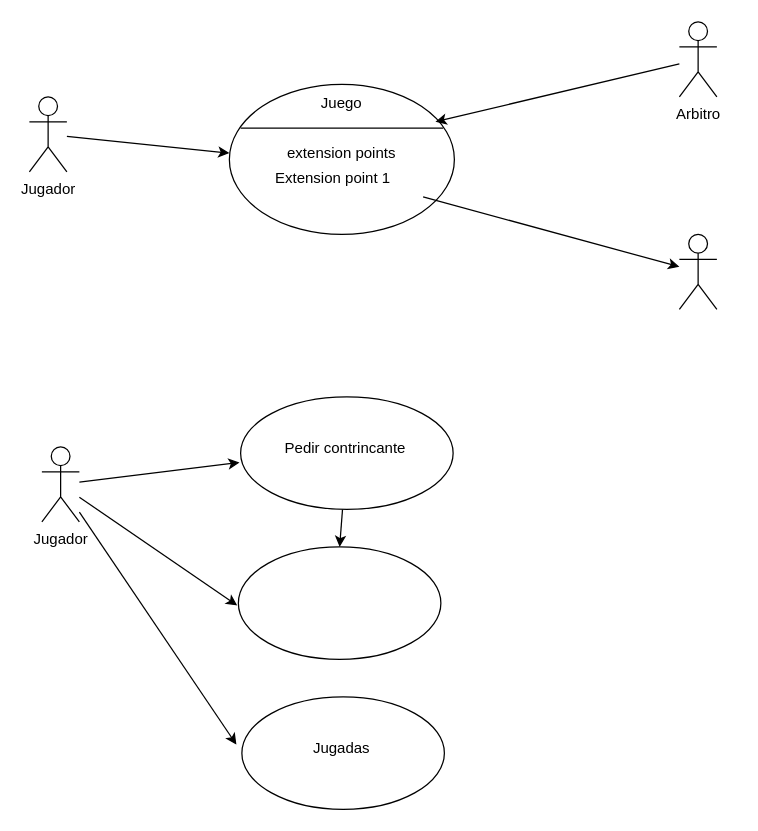
The diagram is 758 pixels wide and 831 high, and some of its shapes have lost their labels. The centre of each missing label's shape, as x and y in pixels:
"Aceptar partida" belongs at (x=339, y=602).
"Federacion" belongs at (x=697, y=271).
